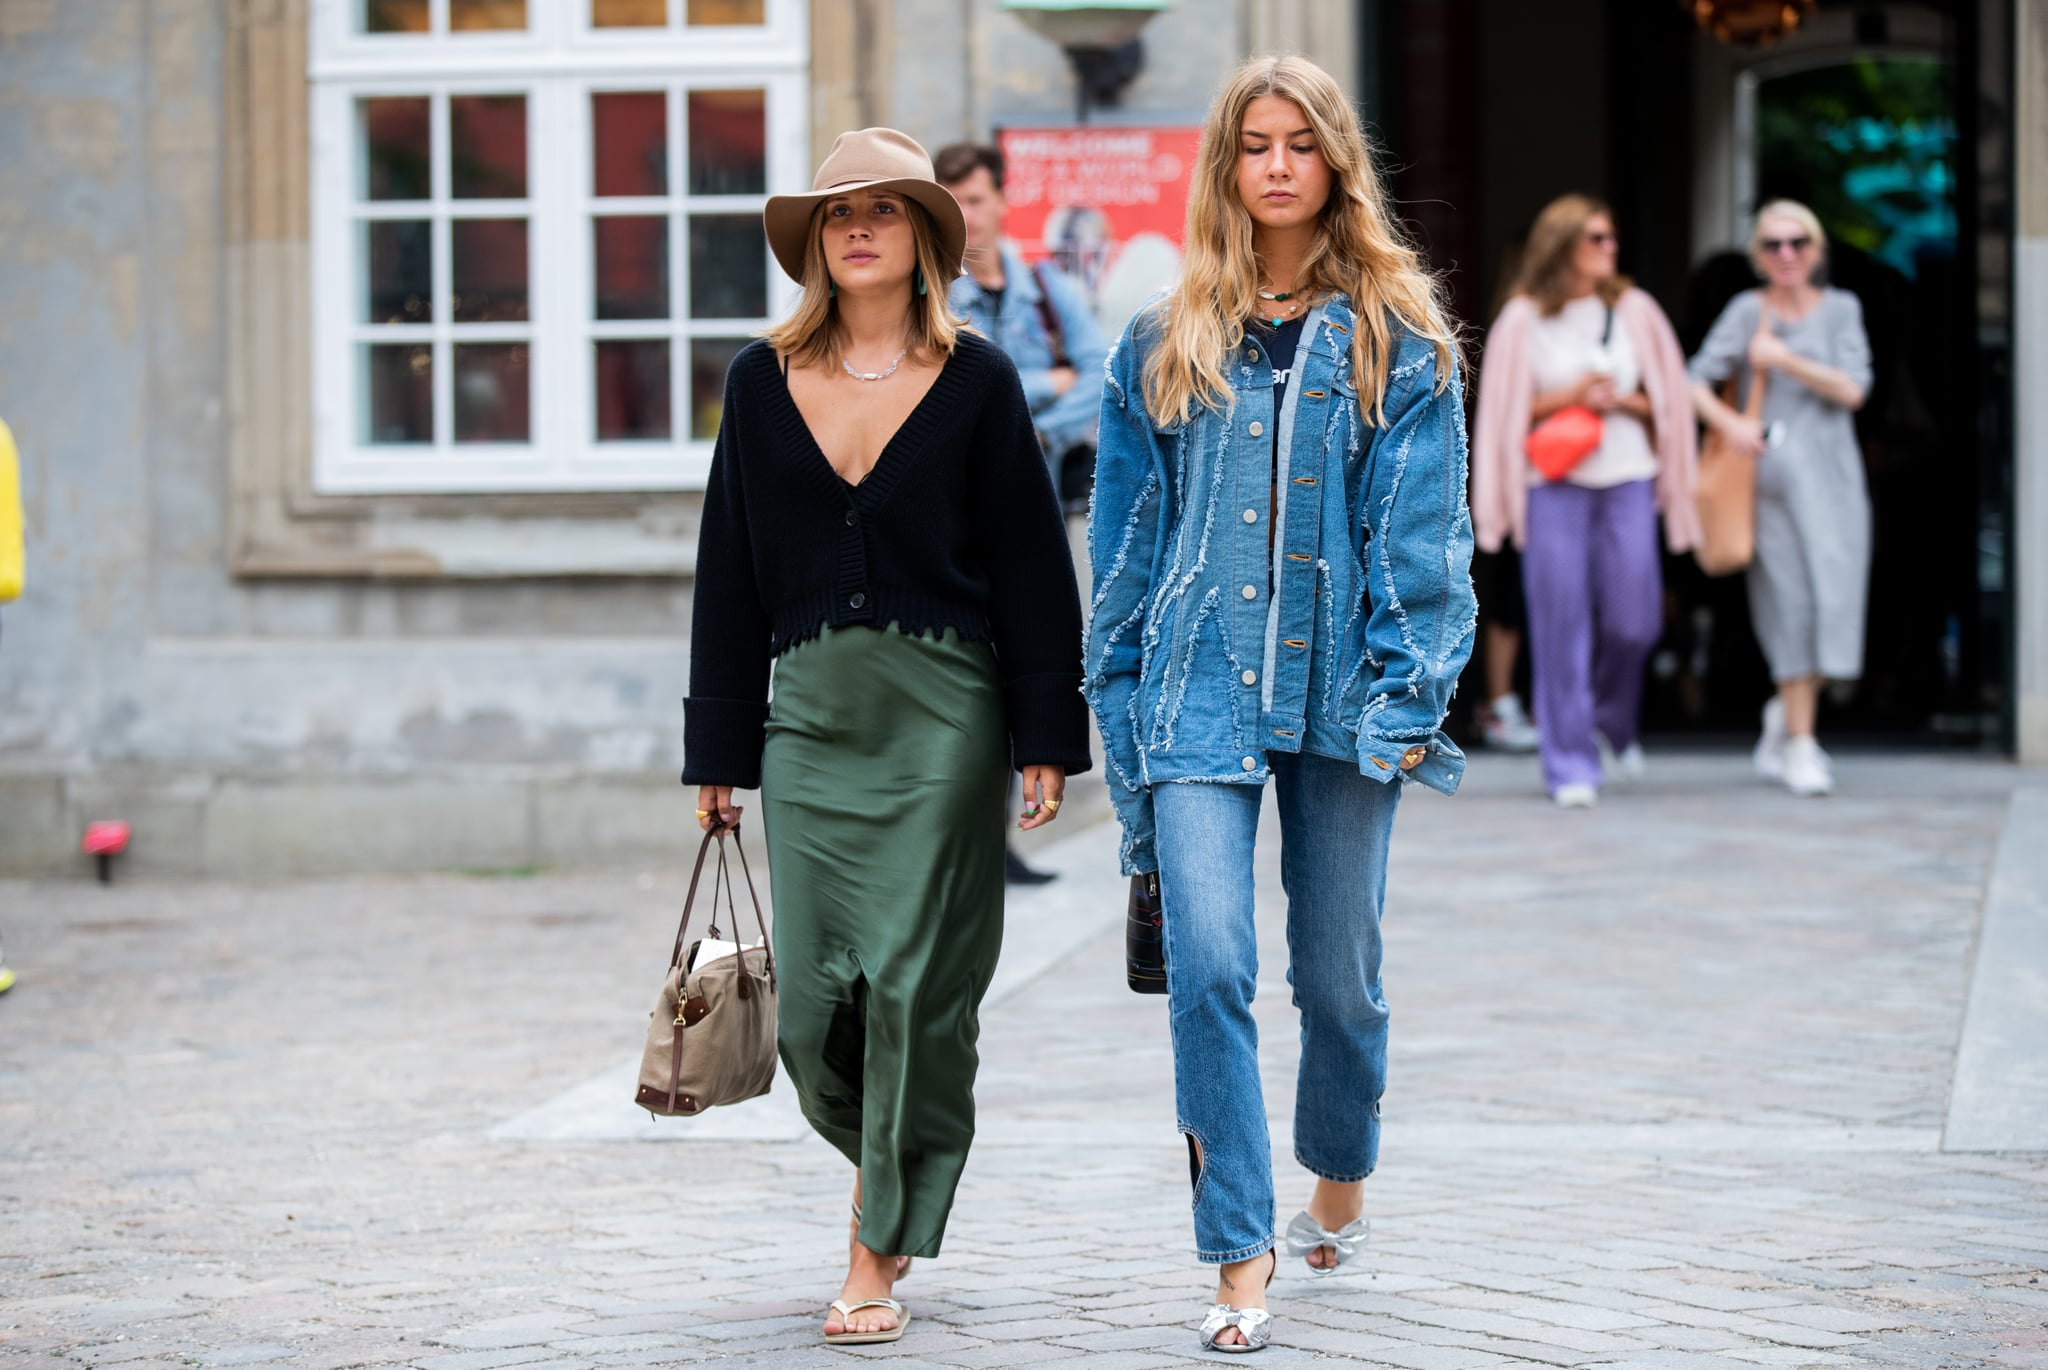Person: (614, 118, 1111, 1370), (1077, 29, 1487, 1370)
